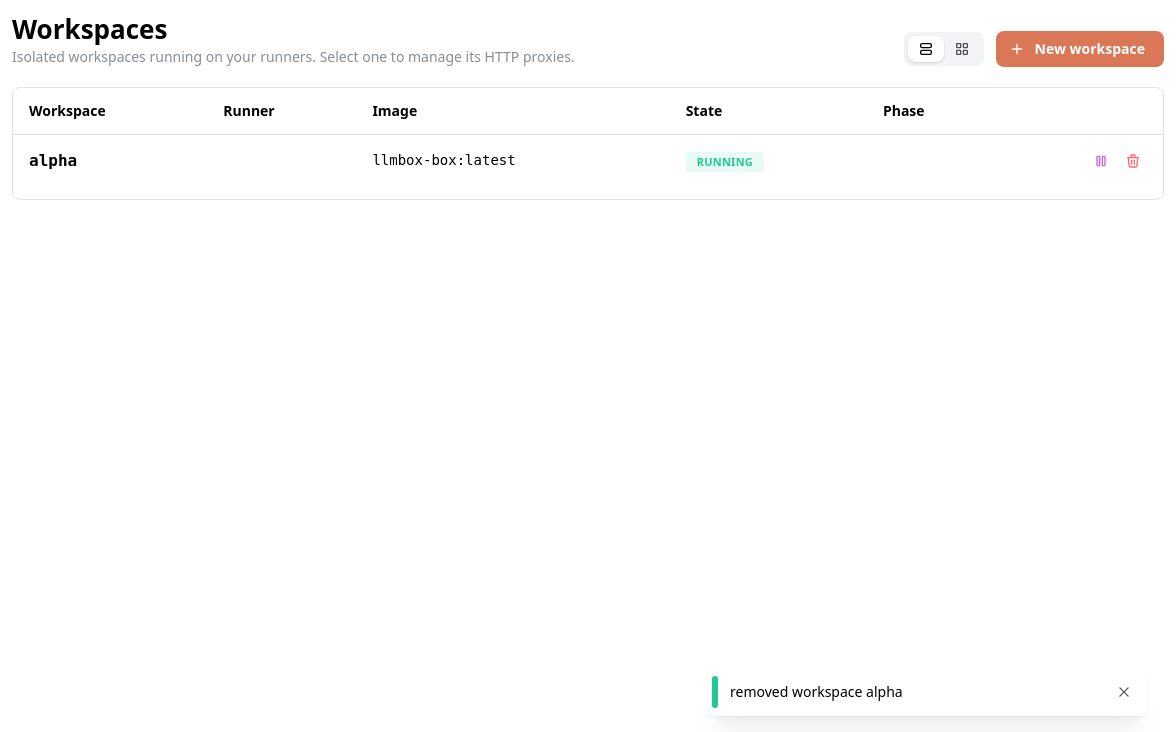
Test: WorkspacesView › pauses a running workspace without a confirm dialog
What coordinates should you click on to do the following:
click the button named "Pause alpha"
I would click on:
 (1101, 161)
Its box is [1087, 147, 1115, 175].
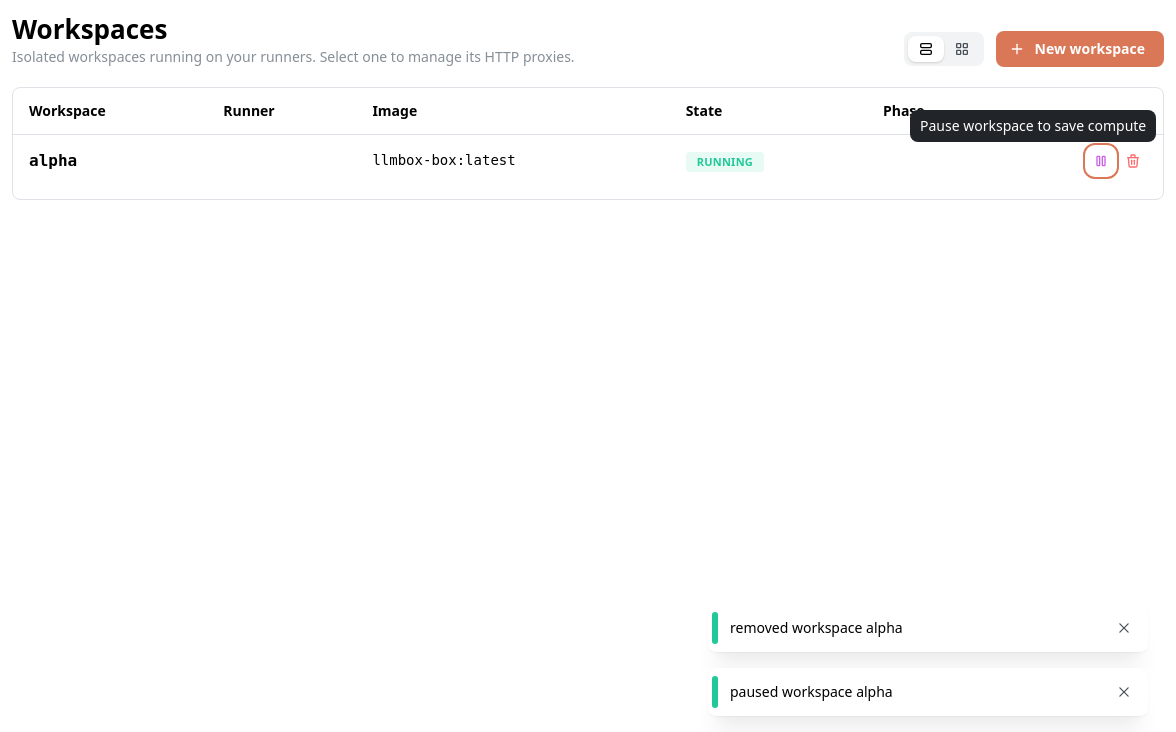
Expected: the text "paused workspace alpha" is shown, [730, 682, 893, 701]
